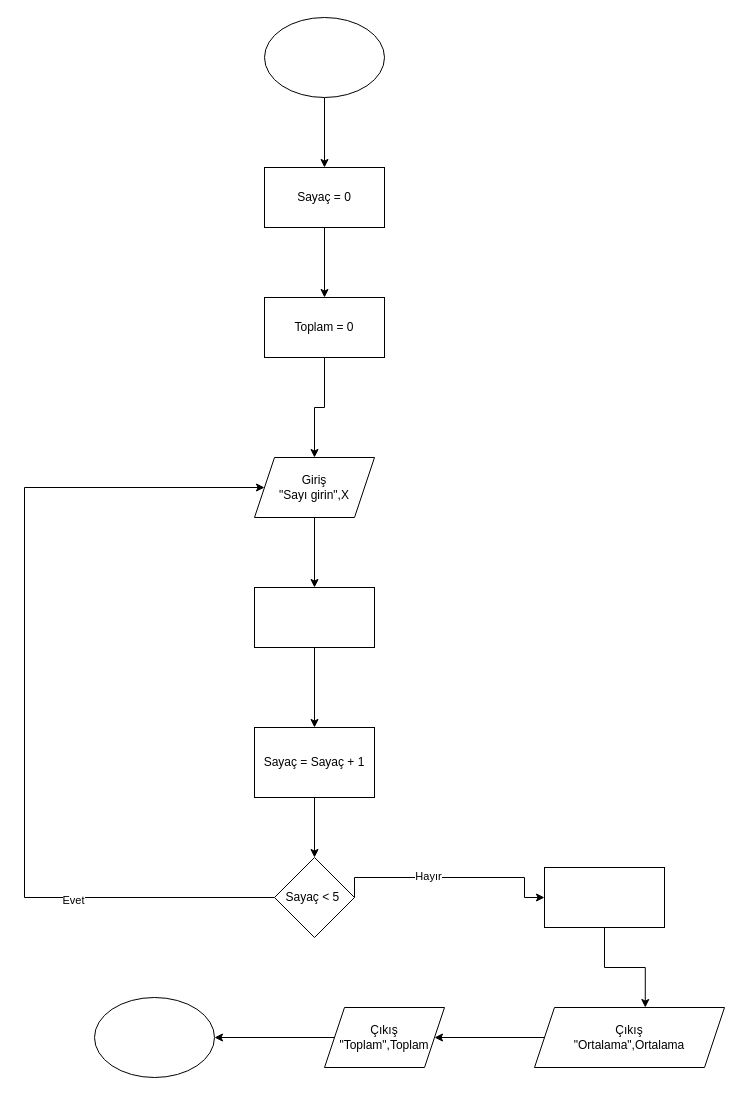
This 742x1095 diagram has some shape labels left out. The shapes that lost their labels are listed below. From the top down, each one's centre as x and y in pixels, then its label:
At point 324,57: "BAŞLA".
At point 314,617: "Toplam = Toplam +X".
At point 604,897: "Ortalama = Toplam / Sayaç".
At point 154,1037: "DUR".
